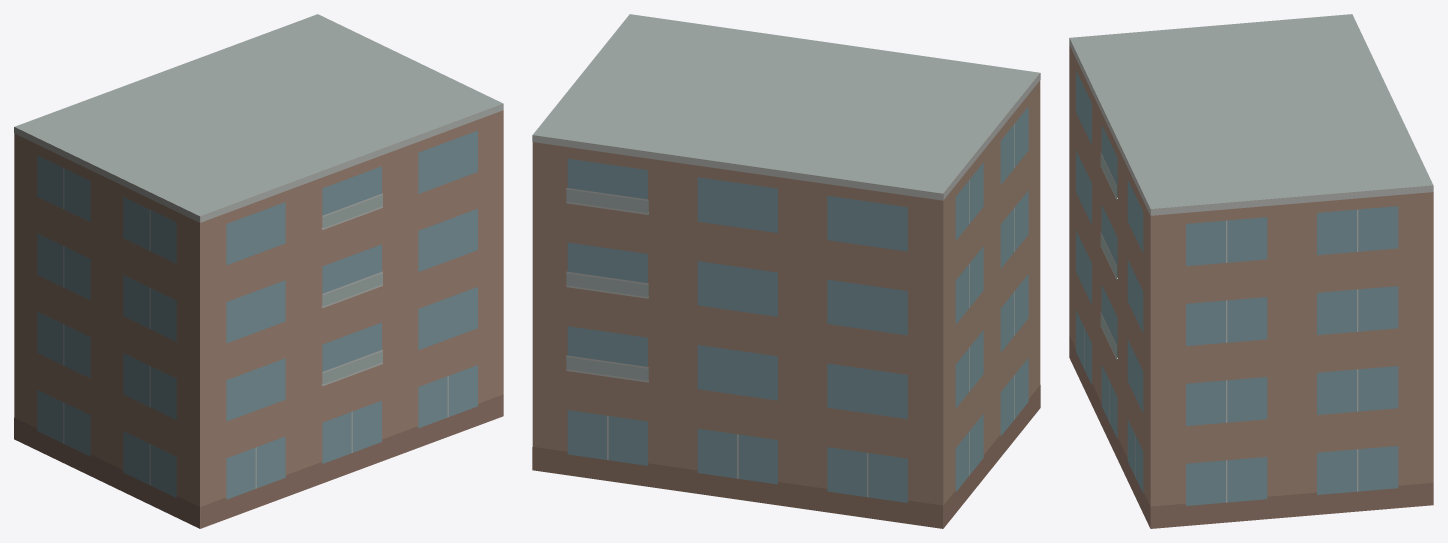
File: survey-upis-32696587.glb
The picture shows the model from 3 angles, left to right: view 1: azimuth 30°, elevation 25°; view 2: azimuth 150°, elevation 25°; view 3: azimuth 270°, elevation 25°; orthographic projection. The views are drawn at different scales.
Visible parts, largest first — view 1: survey-upis-32696587.tmp; view 2: survey-upis-32696587.tmp; view 3: survey-upis-32696587.tmp.
Part boxes in pixels (box(x1,y1,x2,y2)): survey-upis-32696587.tmp: box(14, 14, 503, 528); survey-upis-32696587.tmp: box(532, 14, 1040, 528); survey-upis-32696587.tmp: box(1069, 14, 1433, 528).
Bounding box in the file's own units: 15.32 × 11.7 × 12.09.
